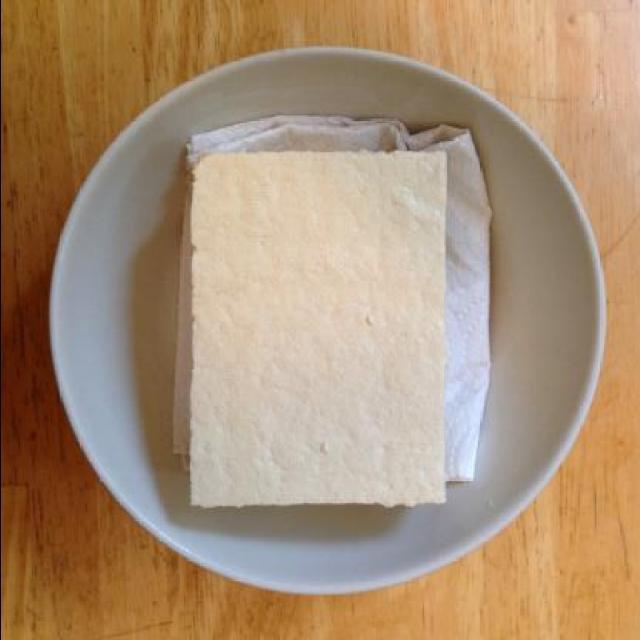Cheese: (185, 148, 447, 510)
